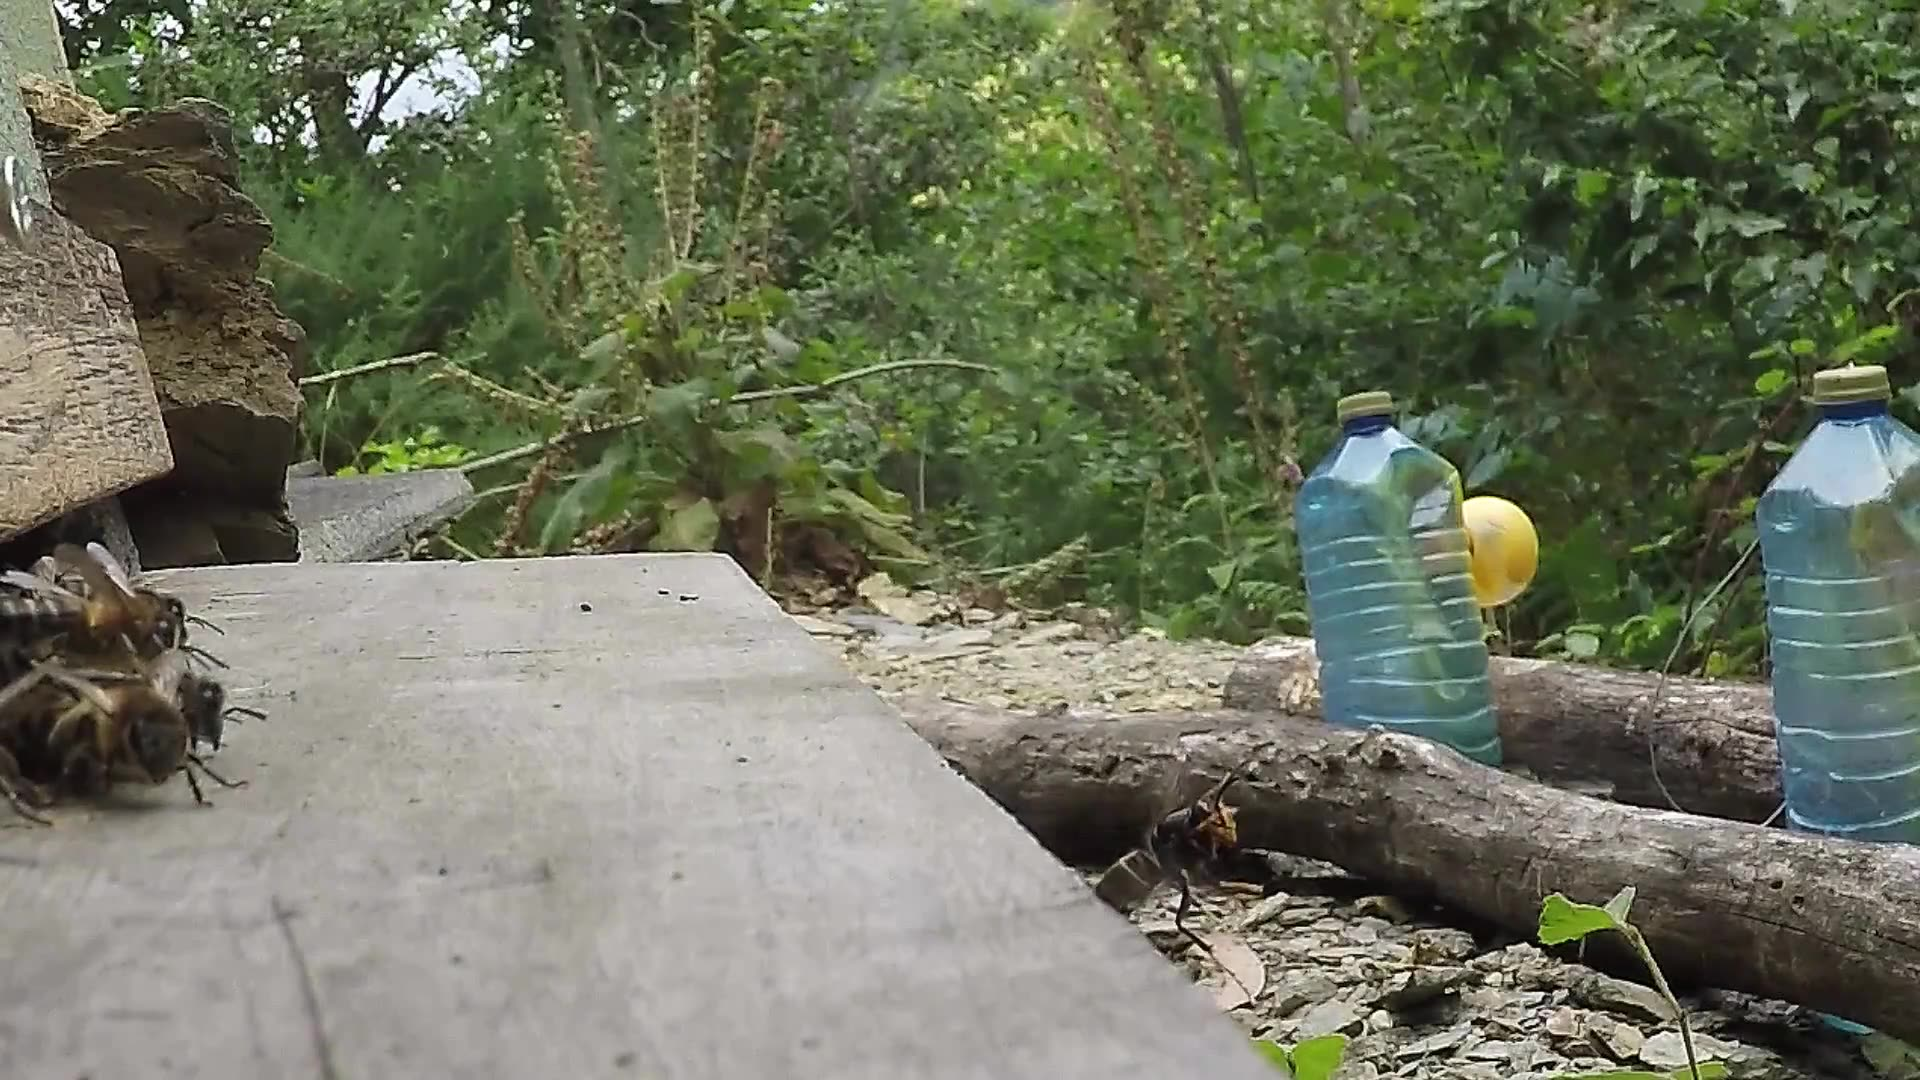bee: (1, 541, 266, 832)
hornet: (1096, 778, 1253, 923)
